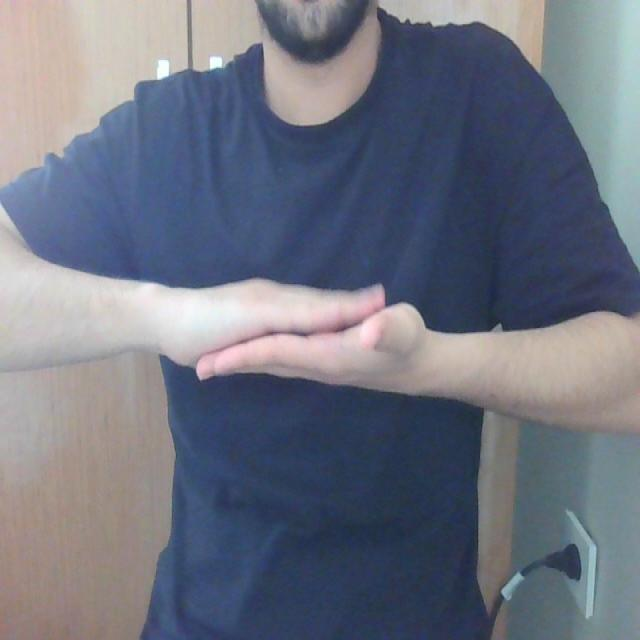Arkadas: (0, 268, 640, 411)
